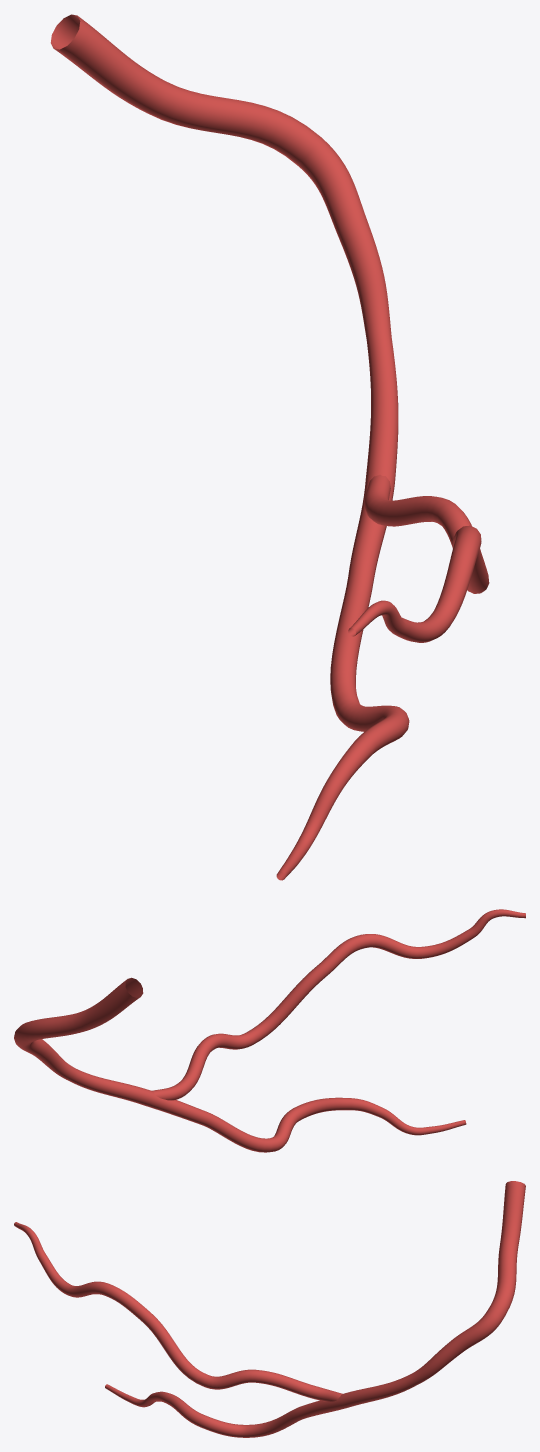
The picture shows the model from 3 angles, top to bottom: view 1: azimuth 30°, elevation 25°; view 2: azimuth 150°, elevation 25°; view 3: azimuth 270°, elevation 25°; orthographic projection. The views are drawn at different scales.
Visible parts, largest first — view 1: 左侧前额动脉; view 2: 左侧前额动脉; view 3: 左侧前额动脉.
Part boxes in pixels (box(x1,y1,x2,y2)): 左侧前额动脉: box(50, 14, 489, 880); 左侧前额动脉: box(14, 909, 525, 1152); 左侧前额动脉: box(14, 1181, 525, 1437).
Size of the model in its own units: 0.0424 by 0.0458 by 0.0812.
